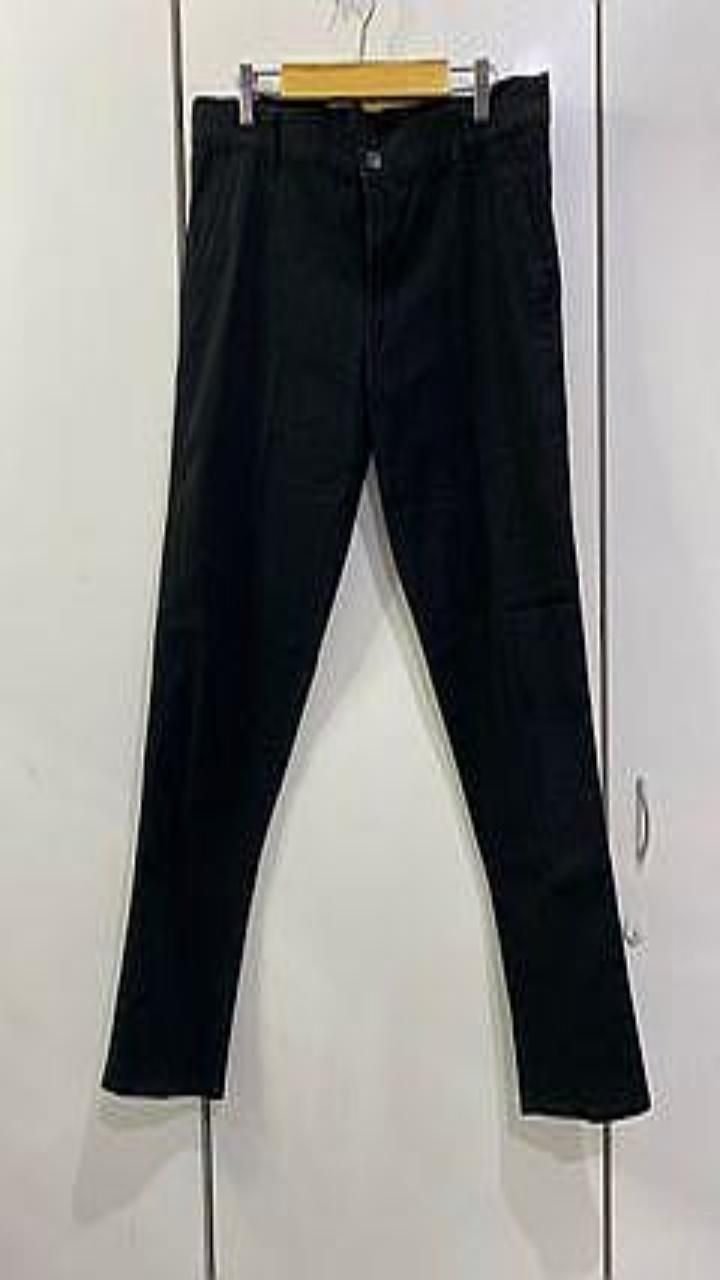Jeans: (103, 72, 649, 1120)
